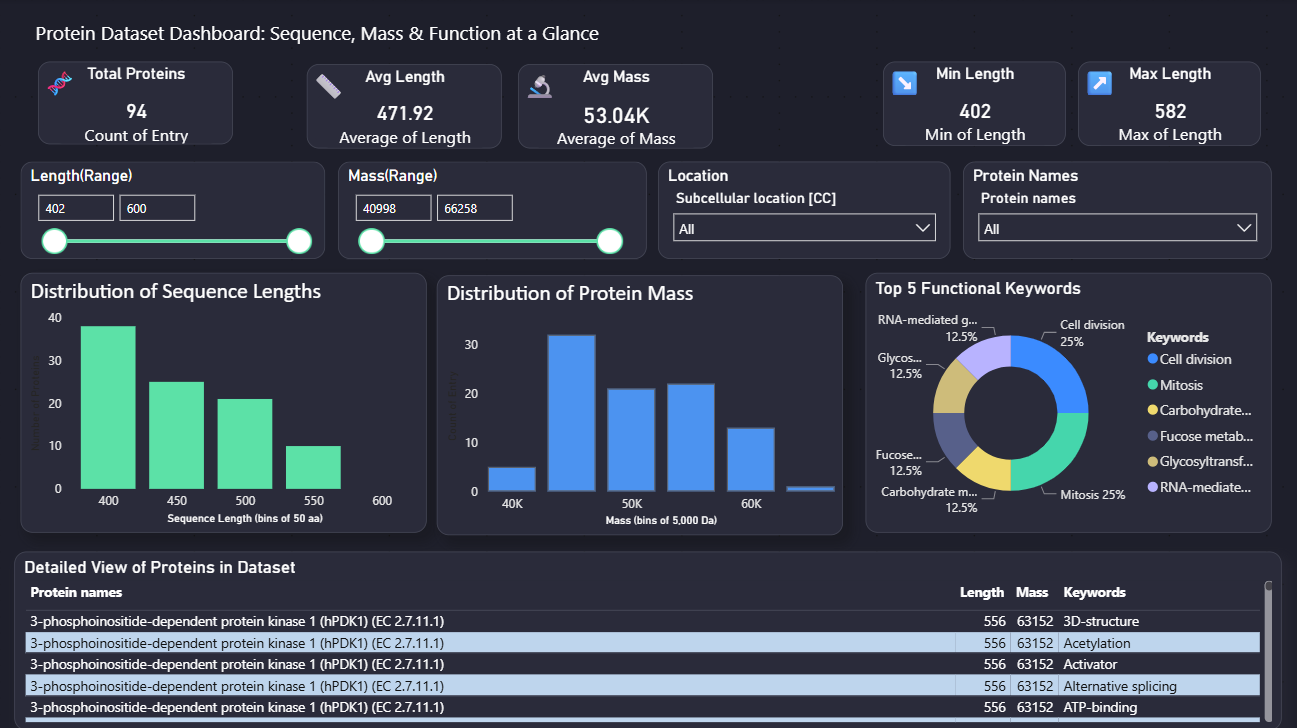

The dashboard page shown, as its layout file describes it:
{"tool":"powerbi","page":{"name":"Page 2","canvas":[1280,720],"ordinal":1},"visuals":[{"type":"cardVisual","title":"Total Proteins","fields":{"Data":["Count(sample_uniprot_100.Entry)"]},"box":[39.9,62,192,81.2],"z":0,"group":"g5"},{"type":"slicer","title":"Length(Range)","fields":{"Values":["sample_uniprot_100.Length"]},"box":[22.2,160,300,96],"z":0},{"type":"cardVisual","title":"Avg Length","fields":{"Data":["Avg(sample_uniprot_100.Length)"]},"box":[304,64,192,83],"z":1000,"group":"g1"},{"type":"slicer","title":"Mass(Range)","fields":{"Values":["sample_uniprot_100.Mass"]},"box":[334.2,160,304,96],"z":1000},{"type":"cardVisual","title":"Avg Mass","fields":{"Data":["Avg(sample_uniprot_100.Mass)"]},"box":[512,64,192,83],"z":2000,"group":"g2"},{"type":"slicer","title":"Location","fields":{"Values":["sample_uniprot_100.Subcellular location [CC]"]},"box":[650.2,160,288,96],"z":2000},{"type":"cardVisual","title":"Min Length","fields":{"Data":["Min(sample_uniprot_100.Length)"]},"box":[871.9,62,180,83],"z":3000,"group":"g3"},{"type":"slicer","title":"Protein Names","fields":{"Values":["sample_uniprot_100.Protein names"]},"box":[950.2,160,304,96],"z":3000},{"type":"cardVisual","title":"Max Length","fields":{"Data":["Max(sample_uniprot_100.Length)"]},"box":[1063.9,62,180,83],"z":4000,"group":"g4"},{"type":"clusteredColumnChart","title":"Distribution of Sequence Lengths","fields":{"Category":["sample_uniprot_100.Length (bins)"],"Y":["Count(sample_uniprot_100.Entry)"]},"box":[21.9,269,400,256],"z":4000},{"type":"clusteredColumnChart","title":"Distribution of Protein Mass ","fields":{"Category":["sample_uniprot_100.Mass (bins)"],"Y":["Count(sample_uniprot_100.Entry)"]},"box":[432,272,400,256],"z":5000},{"type":"donutChart","title":"Top 5 Functional Keywords","fields":{"Category":["sample_uniprot_100.Keywords"],"Y":["CountNonNull(sample_uniprot_100.Entry)"]},"box":[853.9,269,400,256],"z":6000},{"type":"tableEx","title":"Detailed View of Proteins in Dataset","fields":{"Values":["sample_uniprot_100.Protein names","sample_uniprot_100.Length","sample_uniprot_100.Mass","sample_uniprot_100.Keywords"]},"box":[16,544,1248,176],"z":7000},{"type":"textbox","box":[32,16,640,48],"z":8000},{"type":"group","id":"g1","title":"Group 1","box":[304,64,192,80],"z":9000},{"type":"group","id":"g2","title":"Group 2","box":[512,64,192,80],"z":10000},{"type":"group","id":"g3","title":"Group 3","box":[871.9,62,180,83],"z":11000},{"type":"group","id":"g4","title":"Group 4","box":[1063.9,62,180,80],"z":12000},{"type":"group","id":"g5","title":"Group 5","box":[39.9,62,192,80],"z":13000},{"type":"textbox","box":[39.9,62,64,64],"z":13001,"group":"g5"},{"type":"textbox","box":[304,64,64,64],"z":13002,"group":"g1"},{"type":"textbox","box":[512,64,48,64],"z":13003,"group":"g2"},{"type":"textbox","box":[871.9,62,64,64],"z":13004,"group":"g3"},{"type":"textbox","box":[1063.9,62,45,48],"z":13005,"group":"g4"}]}

Visuals, with their boxes in screenshot pixels (x1, y1, x2, y2), scaled from the page's 1280x720 canvas onto the 1297x728 screenshot:
"Total Proteins" cardVisual: Rect(40, 63, 235, 145)
"Length(Range)" slicer: Rect(22, 162, 326, 259)
"Avg Length" cardVisual: Rect(308, 65, 503, 149)
"Mass(Range)" slicer: Rect(339, 162, 647, 259)
"Avg Mass" cardVisual: Rect(519, 65, 713, 149)
"Location" slicer: Rect(659, 162, 951, 259)
"Min Length" cardVisual: Rect(883, 63, 1066, 147)
"Protein Names" slicer: Rect(963, 162, 1271, 259)
"Max Length" cardVisual: Rect(1078, 63, 1260, 147)
"Distribution of Sequence Lengths" clusteredColumnChart: Rect(22, 272, 428, 531)
"Distribution of Protein Mass " clusteredColumnChart: Rect(438, 275, 843, 534)
"Top 5 Functional Keywords" donutChart: Rect(865, 272, 1271, 531)
"Detailed View of Proteins in Dataset" tableEx: Rect(16, 550, 1281, 727)
textbox: Rect(32, 16, 681, 65)
"Group 1" group: Rect(308, 65, 503, 146)
"Group 2" group: Rect(519, 65, 713, 146)
"Group 3" group: Rect(883, 63, 1066, 147)
"Group 4" group: Rect(1078, 63, 1260, 144)
"Group 5" group: Rect(40, 63, 235, 144)
textbox: Rect(40, 63, 105, 127)
textbox: Rect(308, 65, 373, 129)
textbox: Rect(519, 65, 567, 129)
textbox: Rect(883, 63, 948, 127)
textbox: Rect(1078, 63, 1124, 111)
